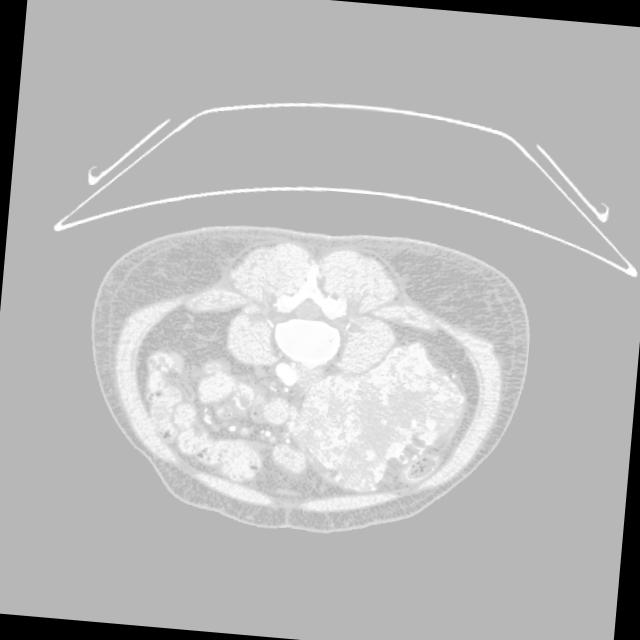TUMOR: (167, 335, 451, 506)
